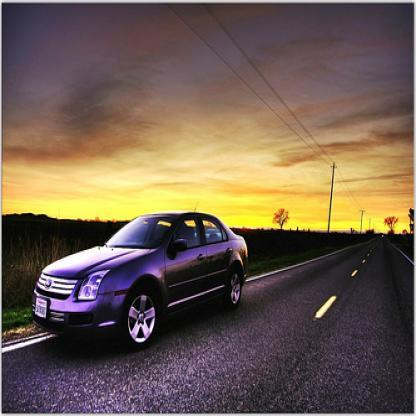car: (26, 204, 253, 345)
